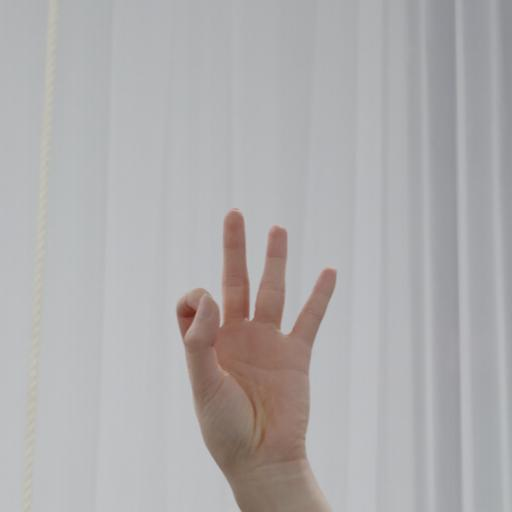F: (171, 201, 343, 488)
